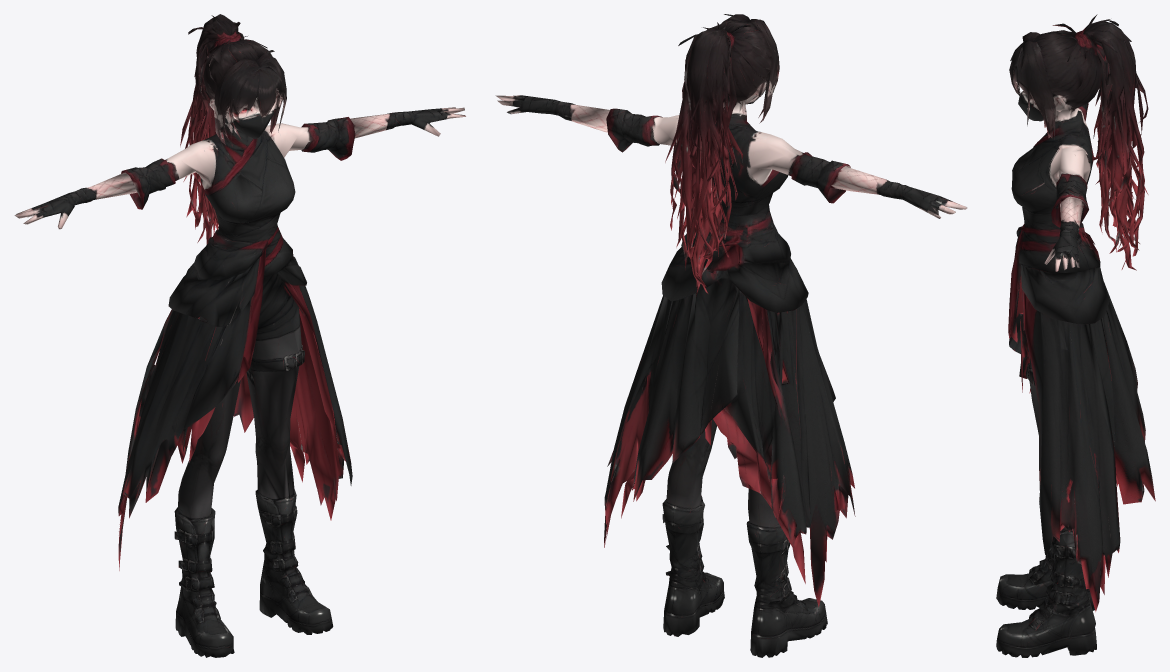
The model's file is Assassin.fbx.
The picture shows the model from 3 angles, left to right: view 1: azimuth 30°, elevation 25°; view 2: azimuth 150°, elevation 25°; view 3: azimuth 270°, elevation 25°; orthographic projection. The views are drawn at different scales.
Visible parts, largest first — view 1: Mesh_0; view 2: Mesh_0; view 3: Mesh_0.
Boxes of the visible parts, x1,y1,x2,y2 form: Mesh_0: [14, 14, 465, 657]; Mesh_0: [495, 14, 967, 657]; Mesh_0: [996, 14, 1155, 657].
Bounding box in the file's own units: 150 × 190 × 45.09.
1 material, 1 textured.
